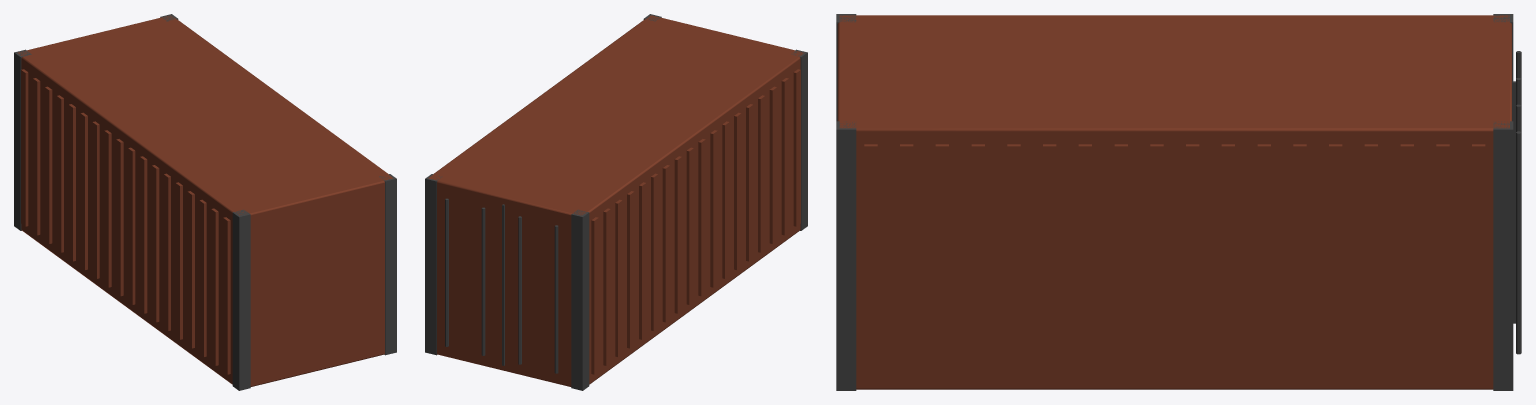
The model's file is Prop_Container_Rust.fbx.
The picture shows the model from 3 angles, left to right: view 1: azimuth 30°, elevation 25°; view 2: azimuth 150°, elevation 25°; view 3: azimuth 270°, elevation 25°; orthographic projection. The views are drawn at different scales.
Parts seen in each view (by area): view 1: Prop_Container_Rust_Mesh; view 2: Prop_Container_Rust_Mesh; view 3: Prop_Container_Rust_Mesh.
Part boxes in pixels (left/top/right/bottom): Prop_Container_Rust_Mesh: left=14, top=14, right=396, bottom=390; Prop_Container_Rust_Mesh: left=425, top=14, right=807, bottom=390; Prop_Container_Rust_Mesh: left=836, top=14, right=1521, bottom=390.
Bounding box in the file's own units: 2.53 × 2.59 × 6.15.
